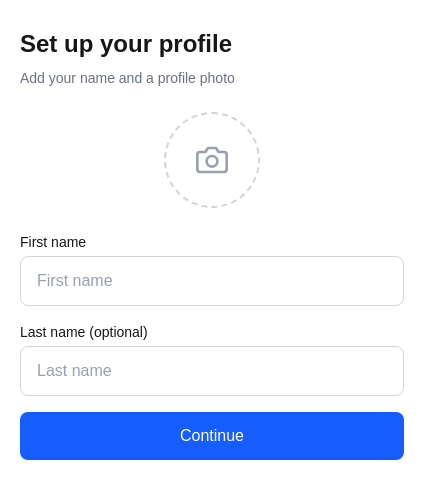
Test case: SetupProfilePage › displays server error message on failure
Type "John" into the field labelled "First name" at [212, 281], box [20, 256, 404, 306]
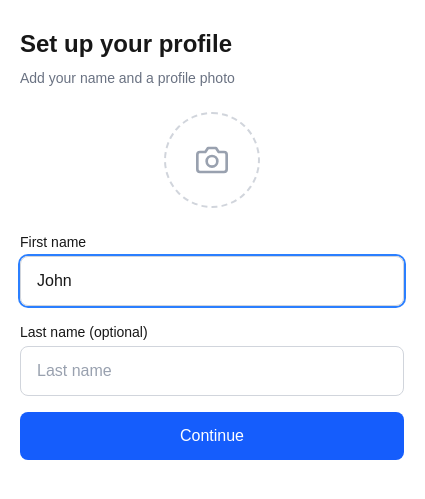
Click the button with aria-label "save profile" at [212, 436], box [20, 412, 404, 460]
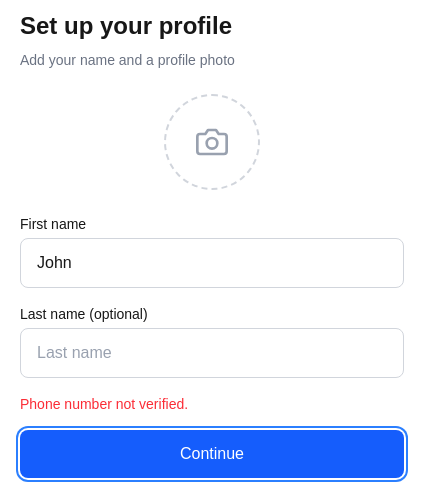
Expected: the text "Phone number not verified." is shown, [20, 396, 188, 412]
